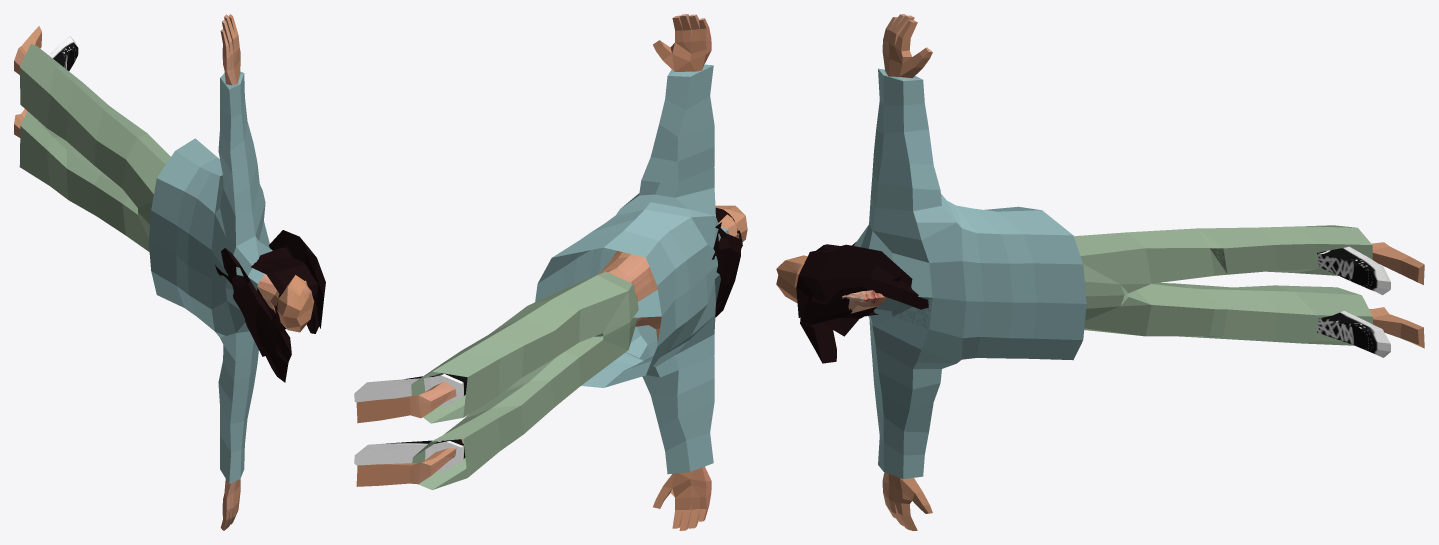
File: jon.gltf
3 views of the same model, side by side, from view 1: azimuth 30°, elevation 25°; view 2: azimuth 150°, elevation 25°; view 3: azimuth 270°, elevation 25° (orthographic).
Parts seen in each view (by area): view 1: Cube.016, Cube.015, Cube.017, Plane.020, Plane.024, Plane.023, Cube.014; view 2: Cube.016, Cube.015, Cube.017, Cube.014, Plane.020; view 3: Cube.016, Cube.015, Cube.017, Plane.023, Cube.014, Plane.021, Plane.020.
Boxes of the visible parts, x1,y1,x2,y2 form: Cube.016: [148, 71, 272, 483]; Cube.015: [19, 44, 170, 251]; Cube.017: [14, 14, 314, 530]; Plane.020: [215, 248, 291, 382]; Plane.024: [251, 247, 318, 306]; Plane.023: [269, 230, 325, 328]; Cube.014: [49, 36, 78, 70]; Cube.016: [535, 64, 728, 474]; Cube.015: [411, 271, 638, 489]; Cube.017: [356, 14, 747, 530]; Cube.014: [354, 373, 467, 472]; Plane.020: [712, 222, 741, 317]; Cube.016: [854, 68, 1086, 479]; Cube.015: [1074, 225, 1372, 345]; Cube.017: [776, 14, 1424, 530]; Plane.023: [796, 244, 928, 317]; Cube.014: [1317, 246, 1390, 357]; Plane.021: [800, 276, 901, 324]; Plane.020: [800, 242, 859, 363].
Size of the model in its own units: 1.18 by 4.97 by 5.7.
Materials: 9 (2 with a texture image).
